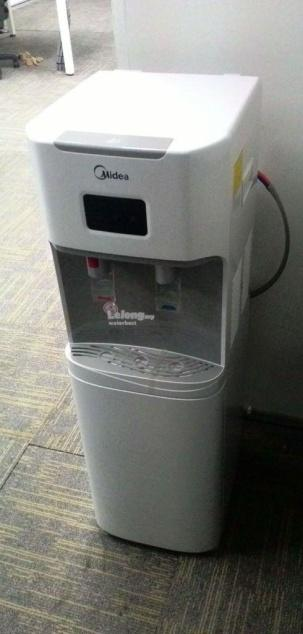Dispenser: (24, 68, 262, 553)
